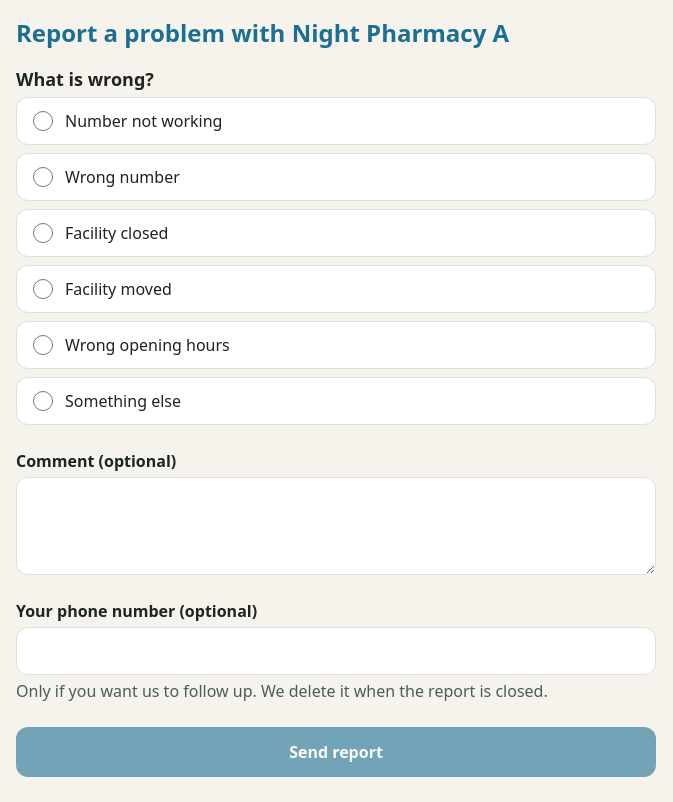
Test case: the report page › on 429 says so and keeps the form
This screenshot has width=673, height=802.
Expected: the heading "Report a problem with Night Pharmacy A" is shown, [16,16,509,49]
Click the radio button labelled "Facility closed" at {"x": 43, "y": 233}, box [33,223,53,243]
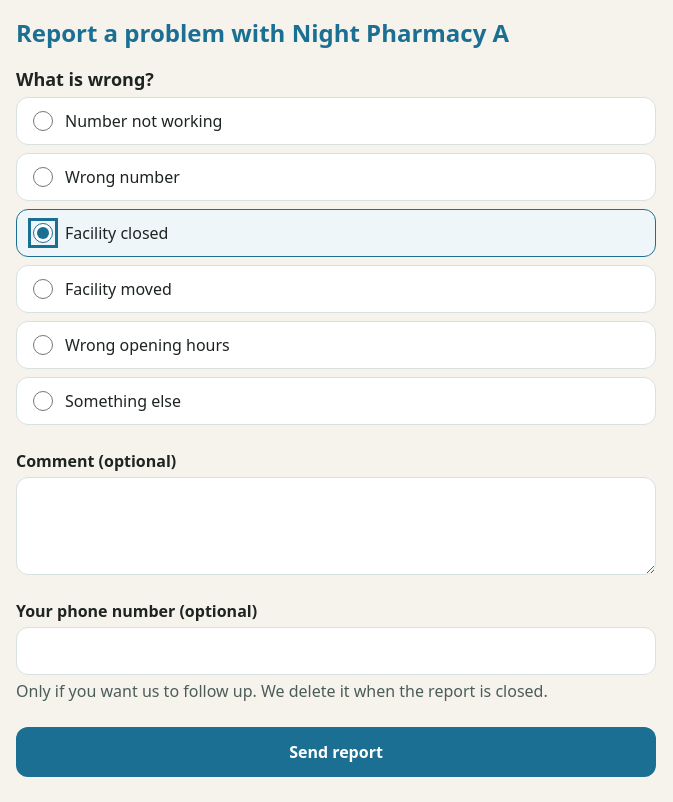
Click the button "Send report" at {"x": 336, "y": 752}, box [16,727,656,777]
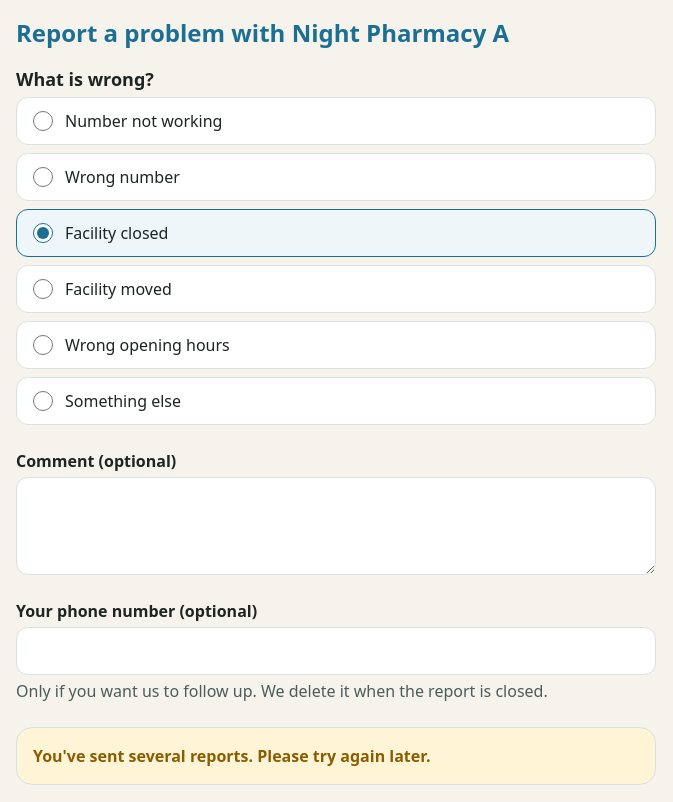
Now the radio button labelled "Facility closed" is checked, box [33,223,53,243]
Now the text "You've sent several reports. Please try again later." is shown, box [16,727,656,785]
